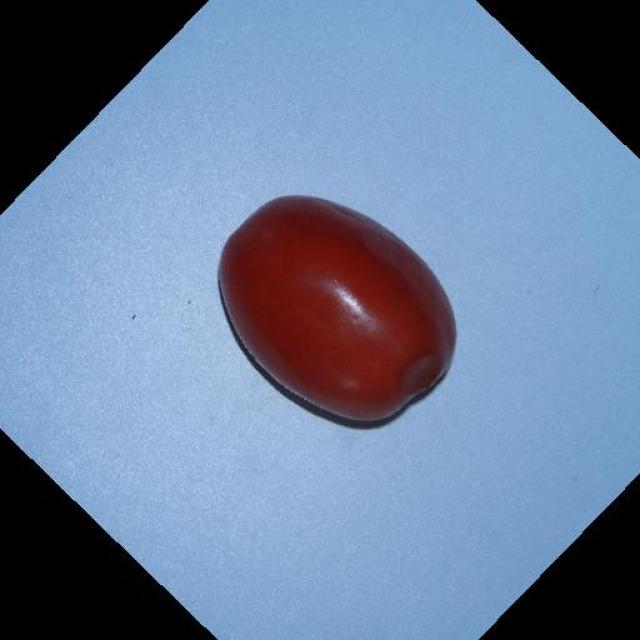Stale_tomato: (221, 227, 456, 421)
